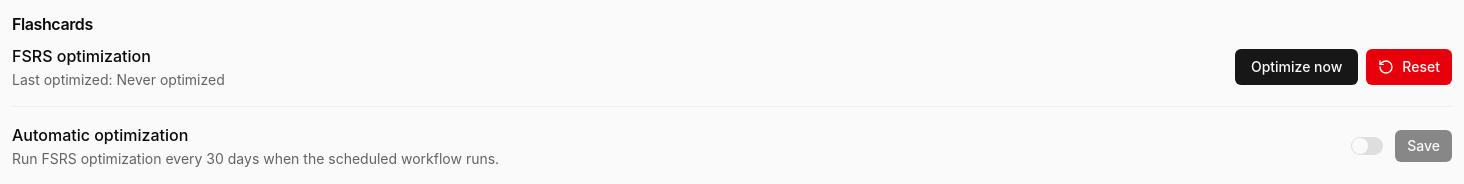
Test: FlashcardOptimizationCard › enables the automatic optimization save action after the switch changes
This screenshot has width=1464, height=184.
Check: the button "Save" is disabled, box [1395,130,1452,162]
Click the switch named "Automatic optimization" at (1367, 146), box [1351,137,1383,155]
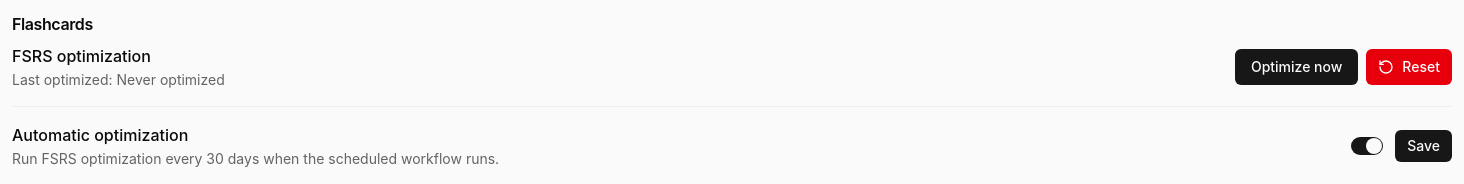
Check: the button "Save" is enabled, box [1395,130,1452,162]
